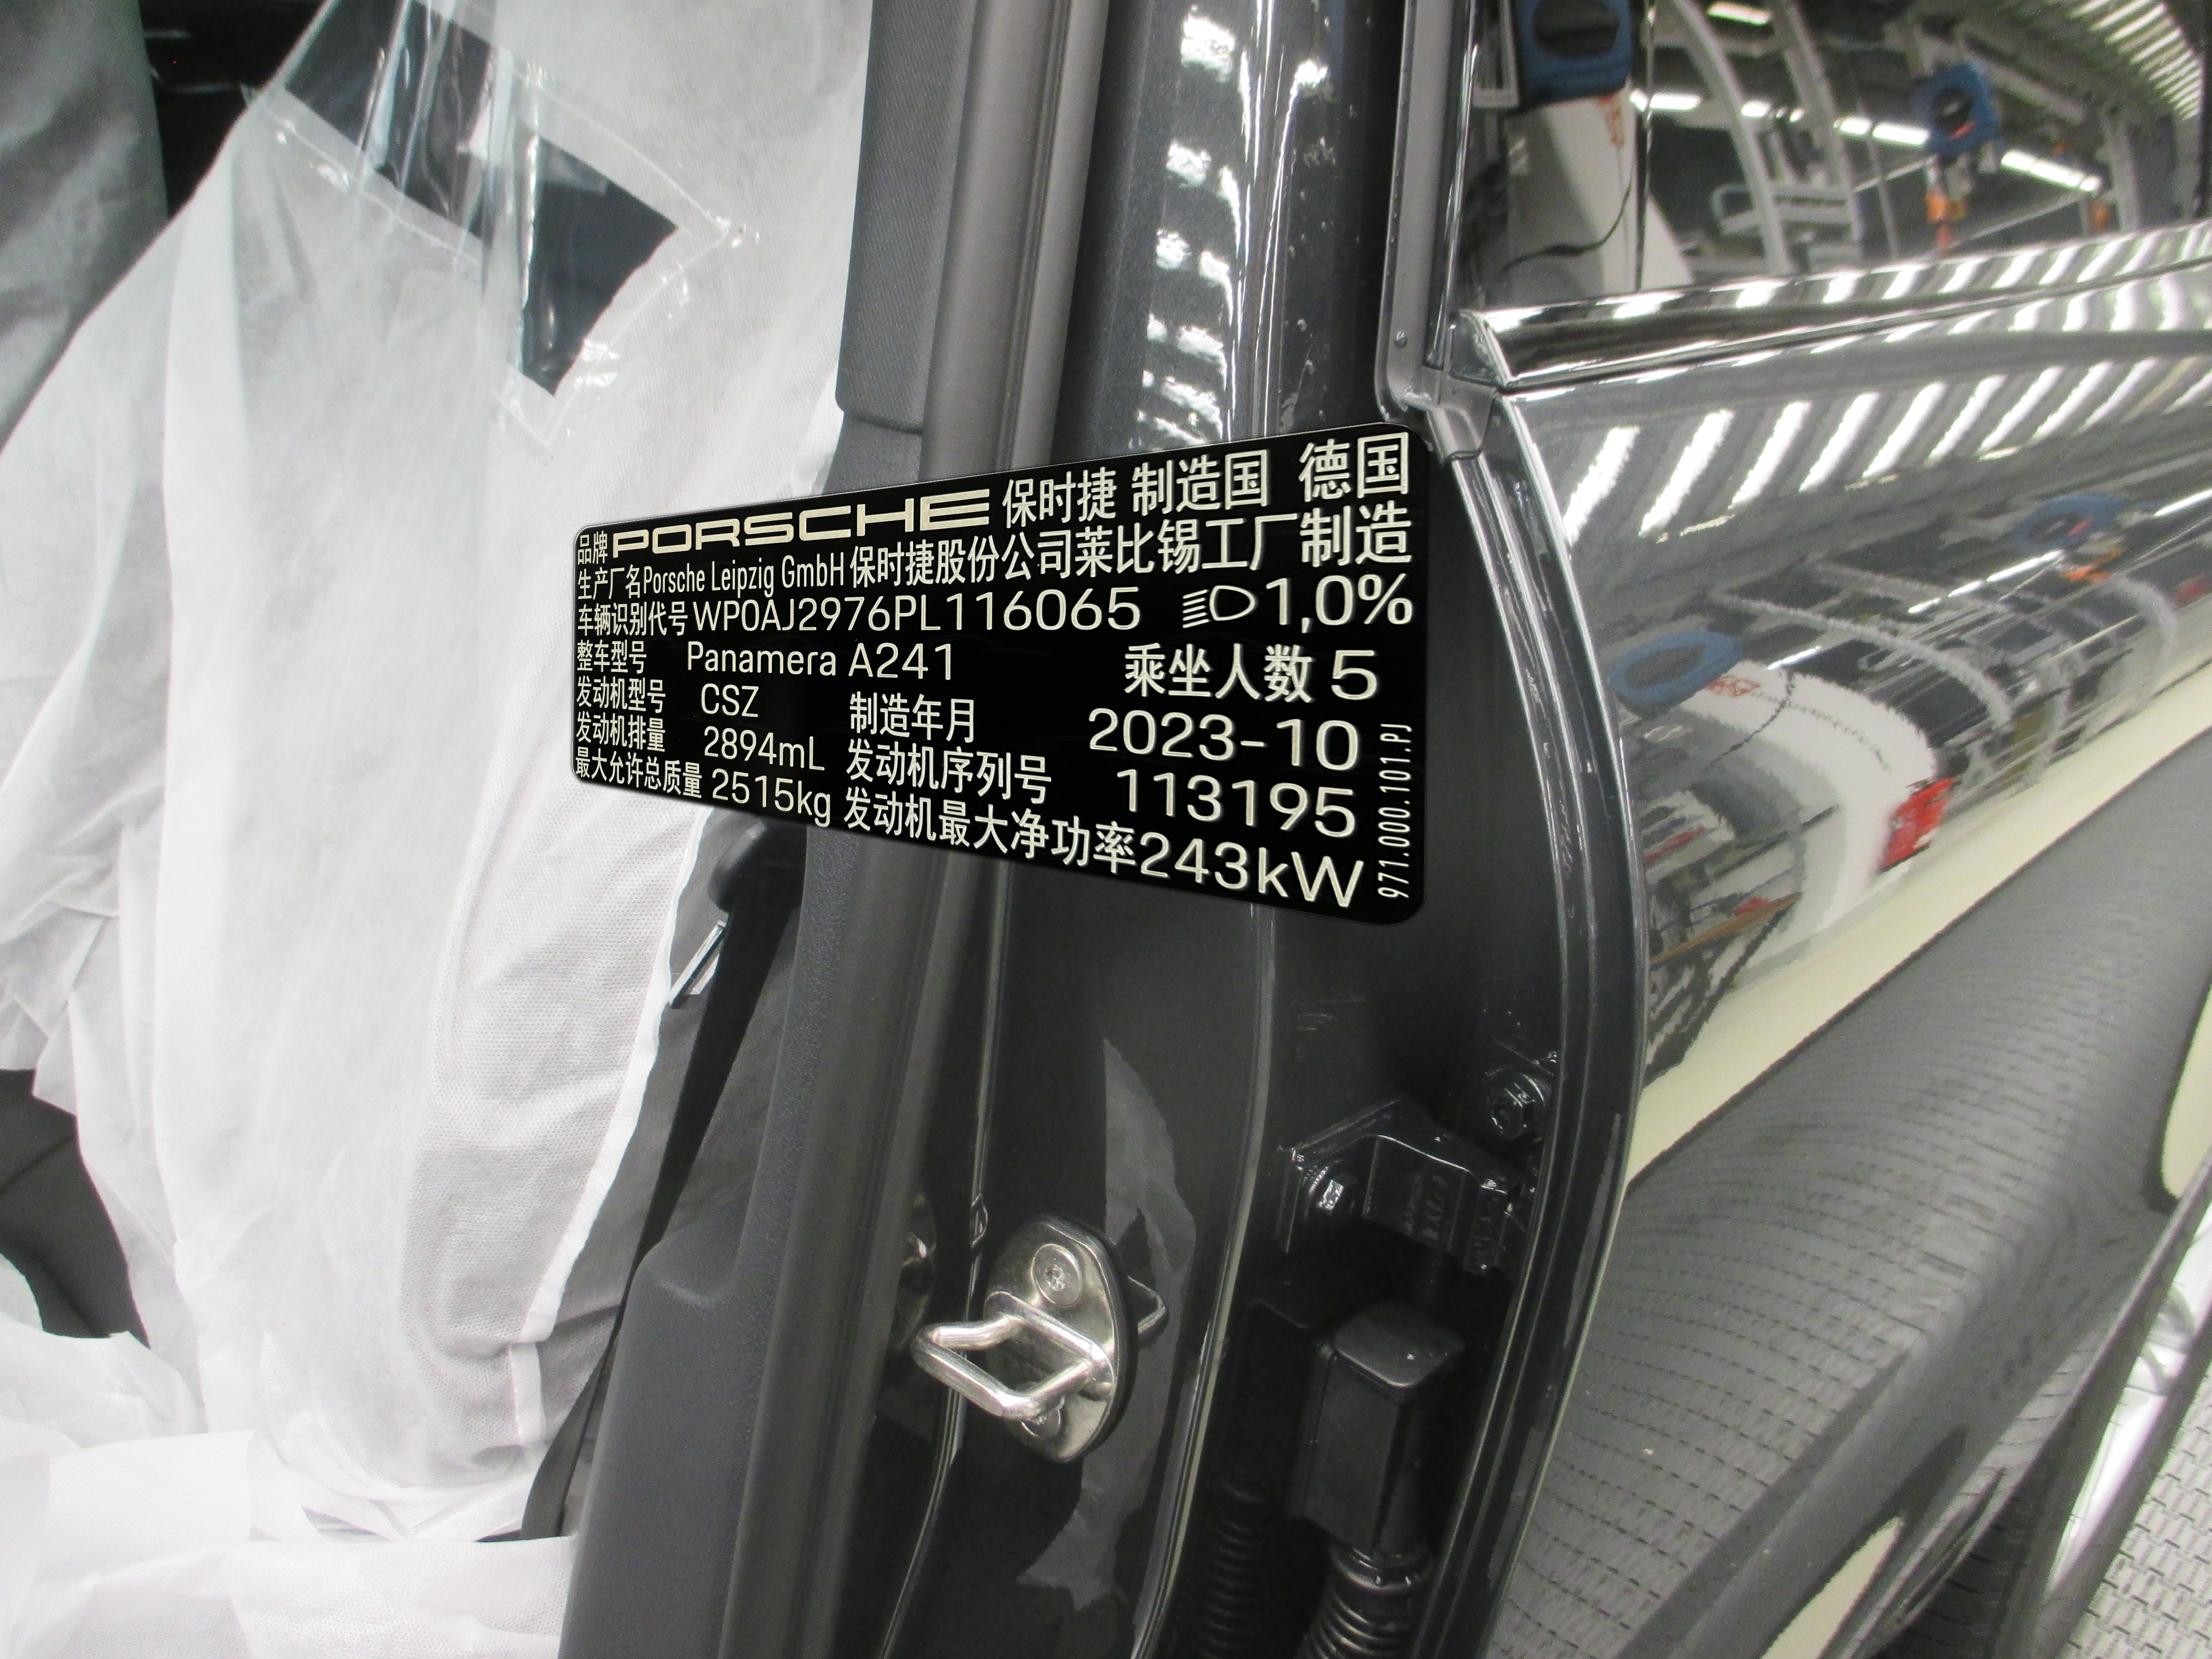Typlabel-China: (573, 422, 1428, 925)
